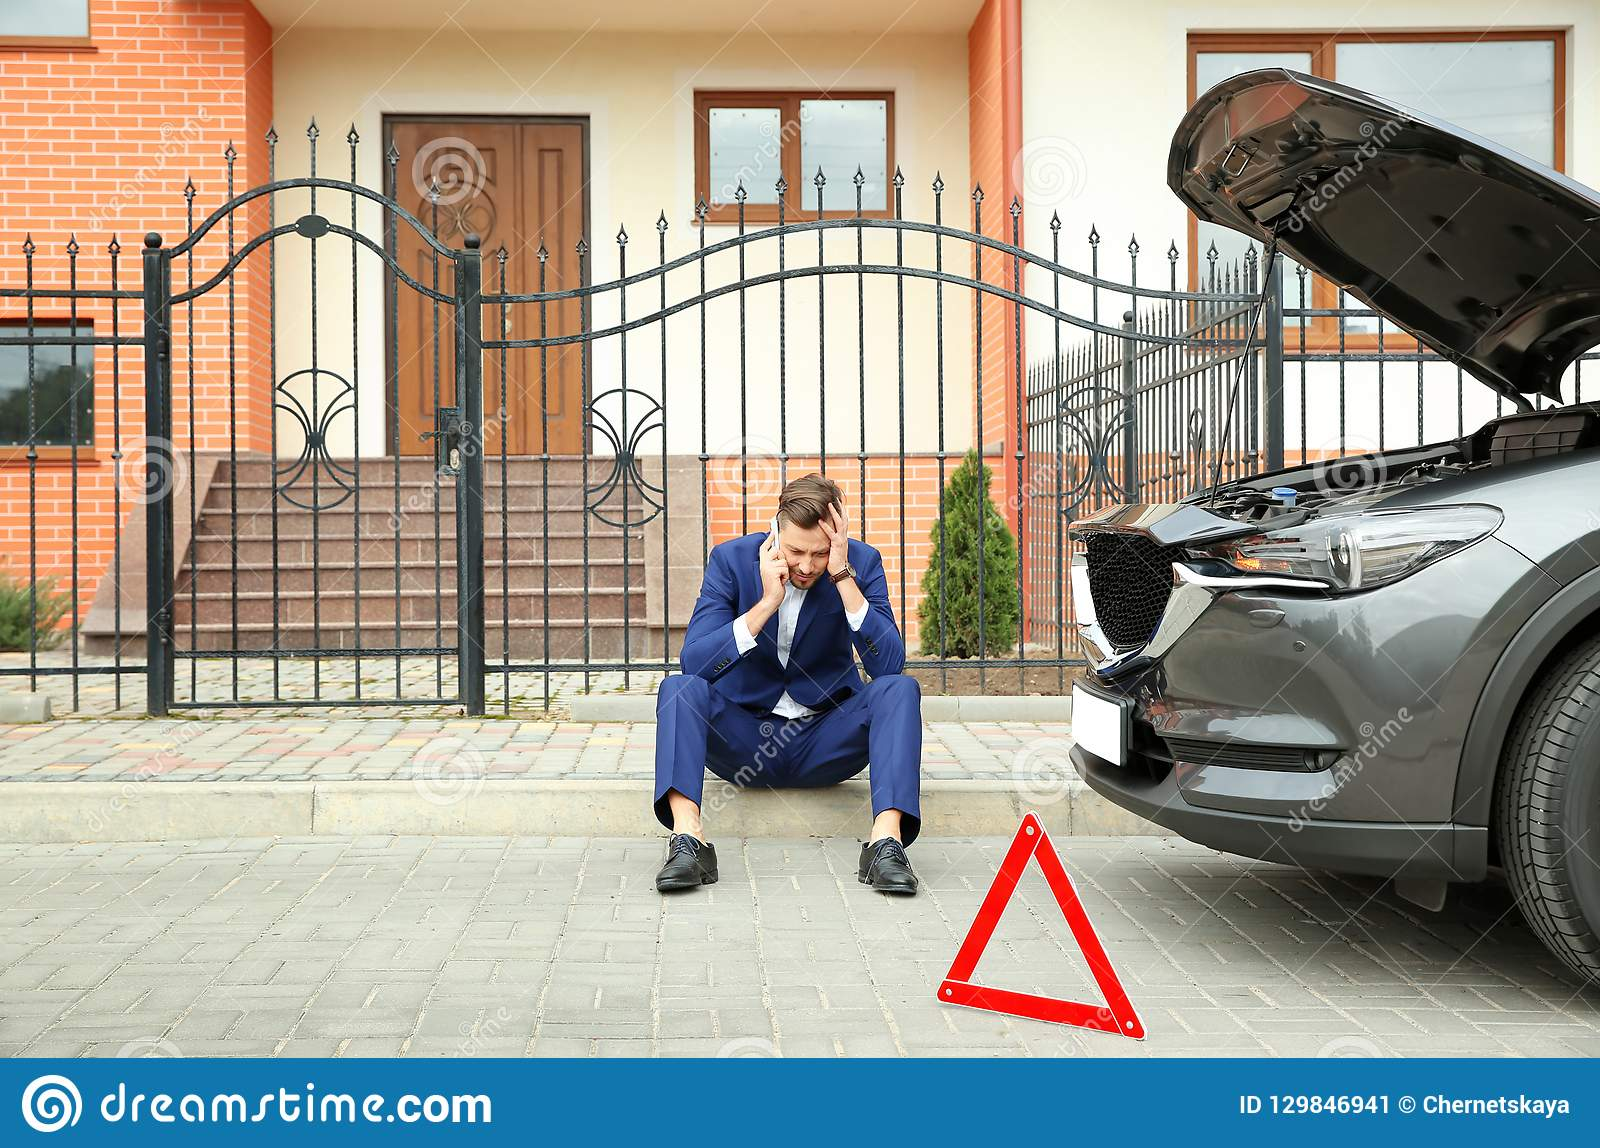phone: (768, 516, 783, 567)
talk: (758, 514, 830, 603)
